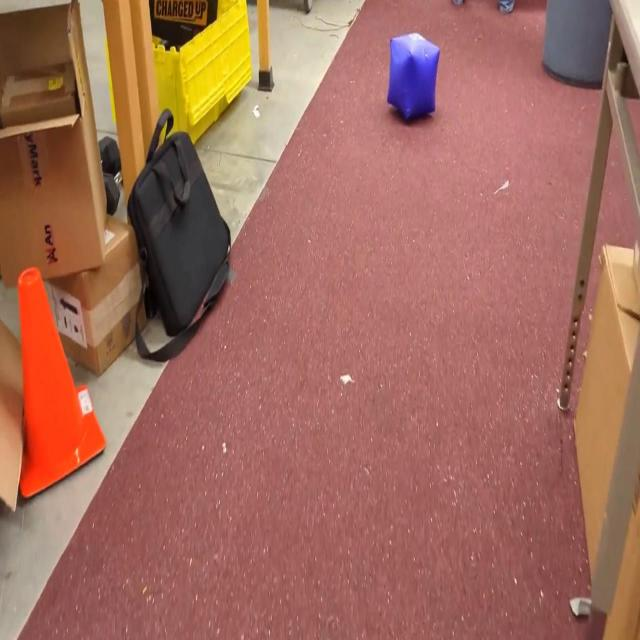frc_cube: (387, 30, 441, 126)
